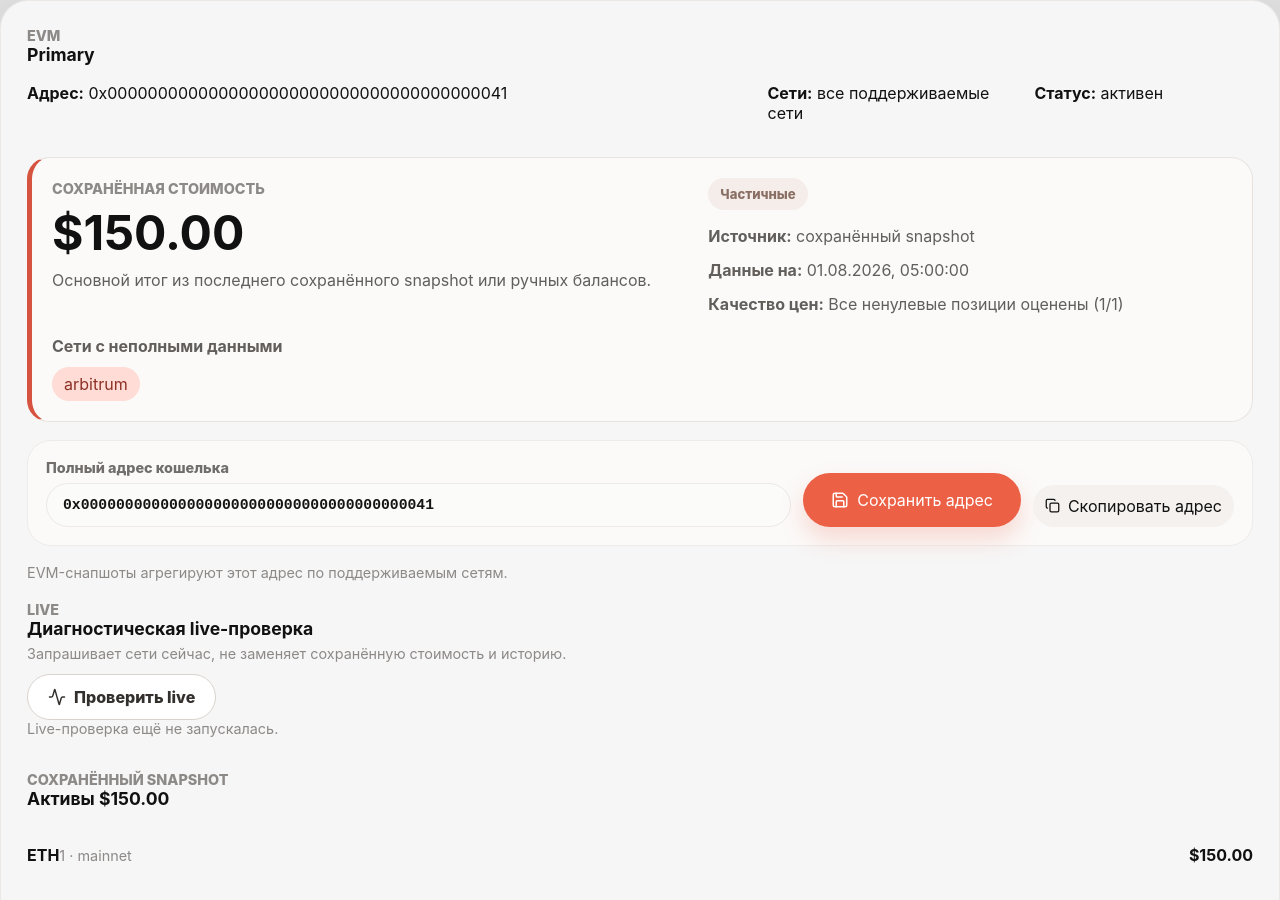
wallet detail data health › keeps the saved partial value primary and runs live lookup only on request
The image size is (1280, 900).
Expected: the text "Сохранённая стоимость" is shown, [52,180,265,197]
Expected: the text "Частичные" is shown, [708,178,808,210]
Click the button "Проверить live": (122, 697) [27,674,216,720]
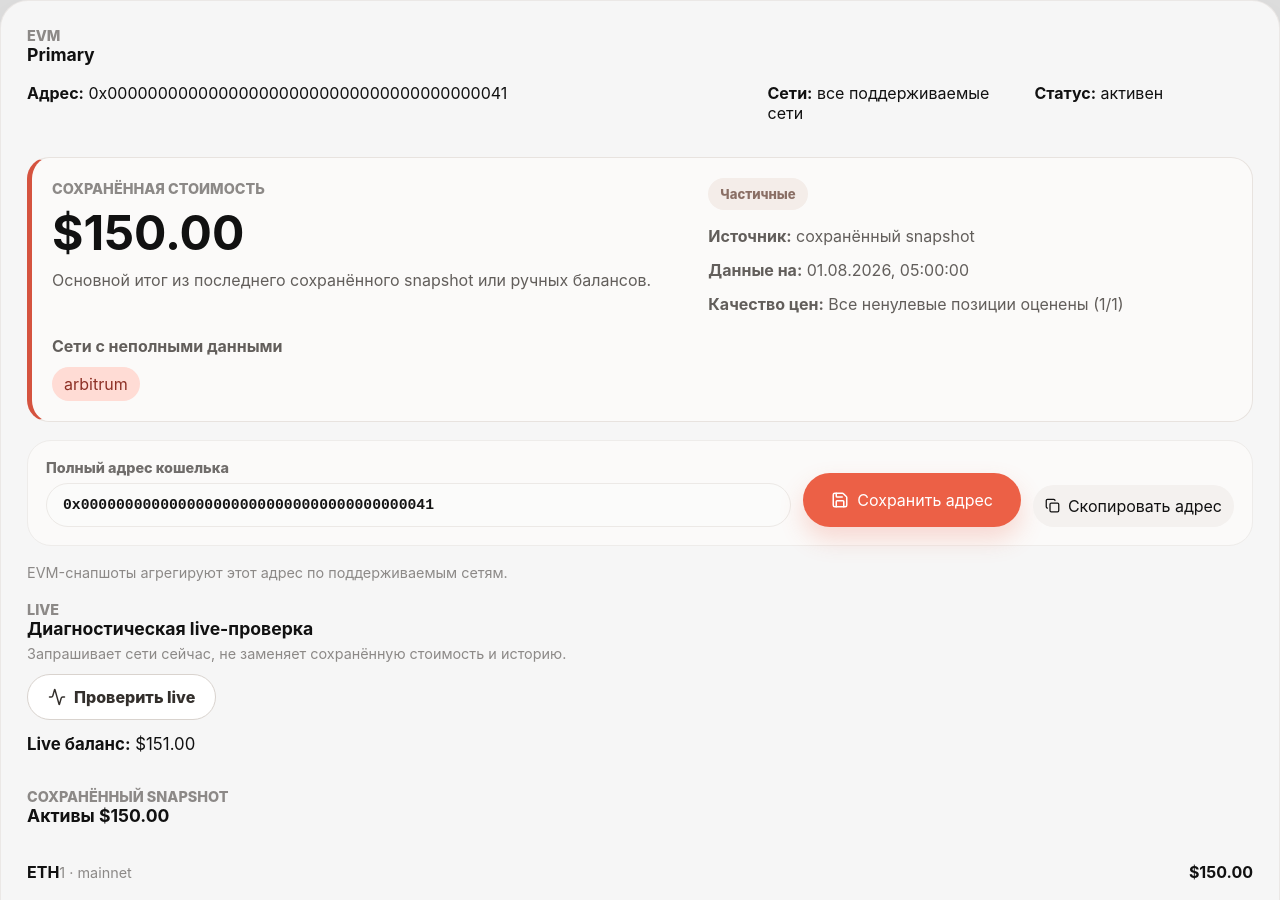
Expected: the text "Live баланс:" is shown, [27,734,130,754]
Expected: the text "Live баланс: $151.00" is shown, [27,734,195,754]
